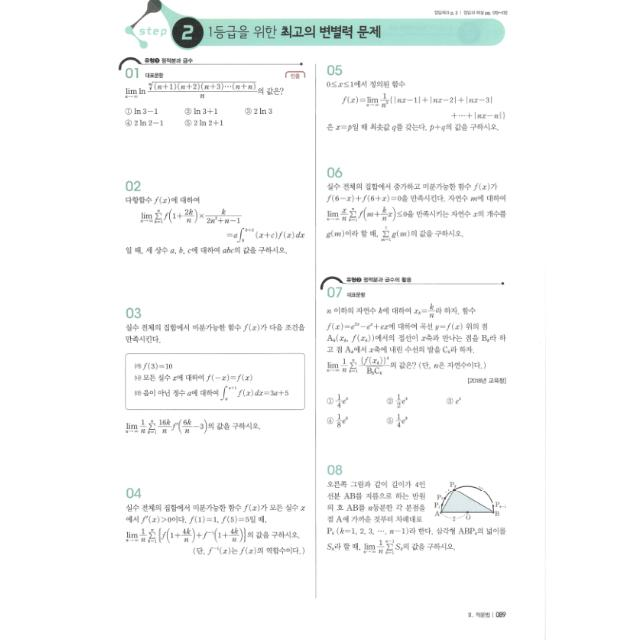multiple: (318, 266, 524, 438), (112, 53, 308, 133)
short: (118, 298, 310, 438), (320, 457, 518, 558), (119, 172, 309, 266), (320, 158, 512, 242), (118, 480, 308, 564), (320, 56, 508, 136)
